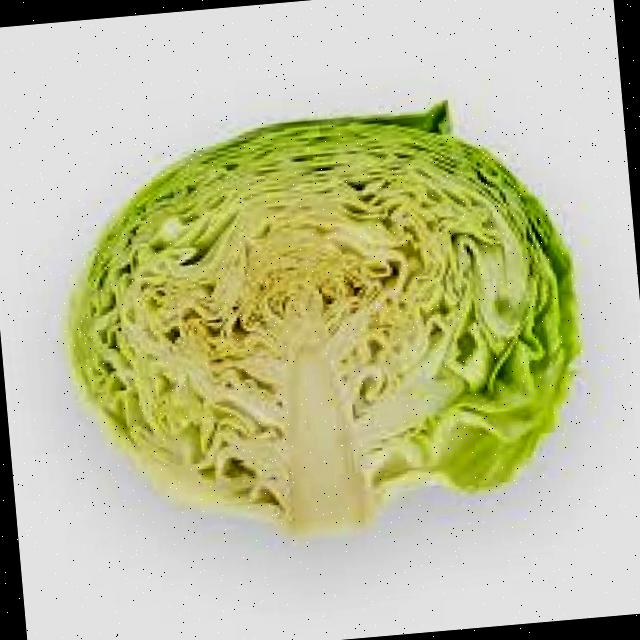cabbage: (54, 79, 598, 575)
